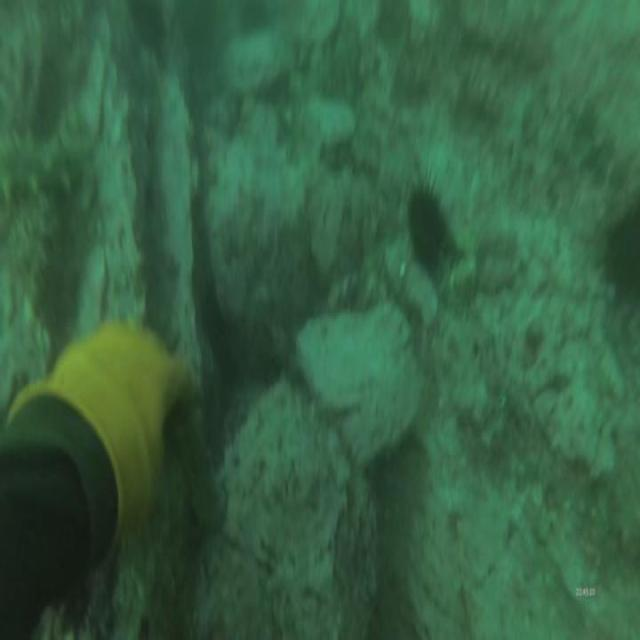echinus: (400, 169, 453, 275), (601, 207, 640, 300), (126, 0, 164, 57), (374, 0, 406, 60)
holothurian: (165, 393, 228, 532), (447, 61, 506, 132), (392, 40, 438, 108)
